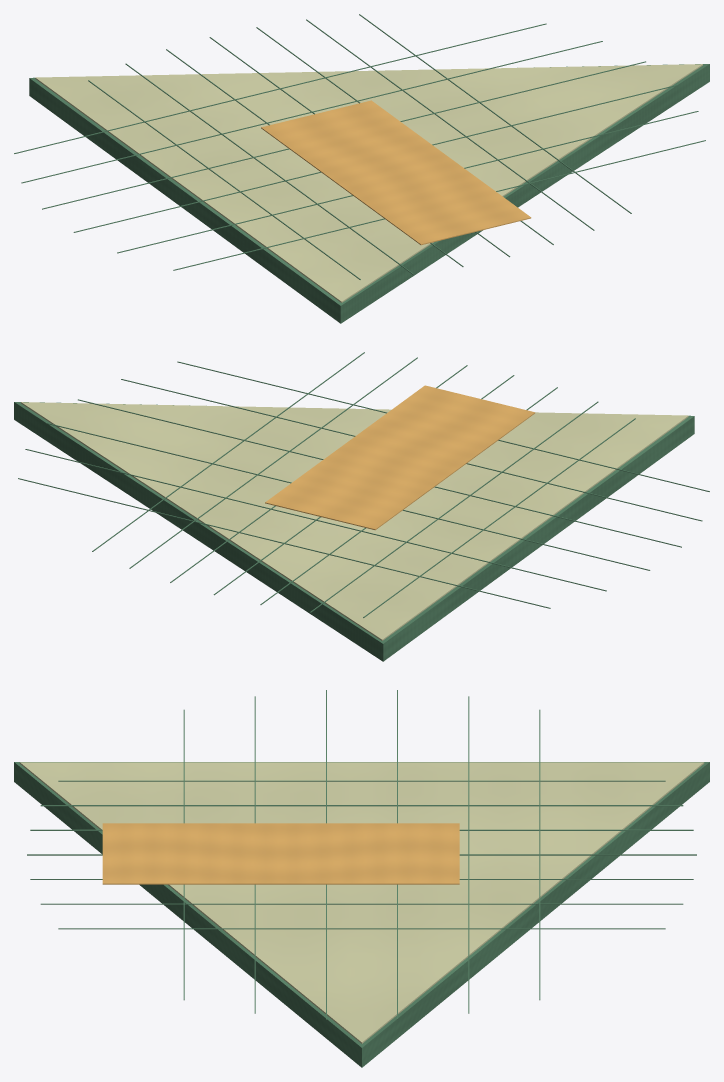
File: atlas100-s005-a07.lod2.glb
The picture shows the model from 3 angles, top to bottom: view 1: azimuth 30°, elevation 25°; view 2: azimuth 150°, elevation 25°; view 3: azimuth 270°, elevation 25°; orthographic projection. The views are drawn at different scales.
Visible parts, largest first — view 1: atlas100-s005-a07:part-001, atlas100-s005-a07:part-021, atlas100-s005-a07:part-000, atlas100-s005-a07:part-015, atlas100-s005-a07:part-014, atlas100-s005-a07:part-016, atlas100-s005-a07:part-017, atlas100-s005-a07:part-018, atlas100-s005-a07:part-019, atlas100-s005-a07:part-005, atlas100-s005-a07:part-009, atlas100-s005-a07:part-004 (+1 smaller); view 2: atlas100-s005-a07:part-001, atlas100-s005-a07:part-021, atlas100-s005-a07:part-000, atlas100-s005-a07:part-015, atlas100-s005-a07:part-014, atlas100-s005-a07:part-017, atlas100-s005-a07:part-016, atlas100-s005-a07:part-018, atlas100-s005-a07:part-019, atlas100-s005-a07:part-005, atlas100-s005-a07:part-009, atlas100-s005-a07:part-004 (+1 smaller); view 3: atlas100-s005-a07:part-001, atlas100-s005-a07:part-021, atlas100-s005-a07:part-000, atlas100-s005-a07:part-009, atlas100-s005-a07:part-005, atlas100-s005-a07:part-004, atlas100-s005-a07:part-010, atlas100-s005-a07:part-015, atlas100-s005-a07:part-007, atlas100-s005-a07:part-006.
Part boxes in pixels (bbox=[...]): atlas100-s005-a07:part-001: bbox=[35, 64, 702, 302]; atlas100-s005-a07:part-021: bbox=[261, 100, 531, 245]; atlas100-s005-a07:part-000: bbox=[29, 64, 709, 323]; atlas100-s005-a07:part-015: bbox=[21, 41, 602, 183]; atlas100-s005-a07:part-014: bbox=[14, 23, 546, 153]; atlas100-s005-a07:part-016: bbox=[42, 61, 645, 209]; atlas100-s005-a07:part-017: bbox=[73, 84, 677, 232]; atlas100-s005-a07:part-018: bbox=[117, 111, 698, 253]; atlas100-s005-a07:part-019: bbox=[173, 140, 705, 270]; atlas100-s005-a07:part-005: bbox=[125, 63, 413, 274]; atlas100-s005-a07:part-009: bbox=[306, 19, 594, 230]; atlas100-s005-a07:part-004: bbox=[88, 80, 360, 279]; atlas100-s005-a07:part-001: bbox=[21, 402, 688, 640]; atlas100-s005-a07:part-021: bbox=[265, 385, 535, 530]; atlas100-s005-a07:part-000: bbox=[14, 402, 694, 661]; atlas100-s005-a07:part-015: bbox=[25, 449, 606, 591]; atlas100-s005-a07:part-014: bbox=[18, 478, 550, 608]; atlas100-s005-a07:part-017: bbox=[78, 399, 681, 547]; atlas100-s005-a07:part-016: bbox=[46, 422, 650, 570]; atlas100-s005-a07:part-018: bbox=[121, 379, 702, 521]; atlas100-s005-a07:part-019: bbox=[177, 361, 709, 491]; atlas100-s005-a07:part-005: bbox=[310, 401, 598, 612]; atlas100-s005-a07:part-009: bbox=[129, 357, 417, 568]; atlas100-s005-a07:part-004: bbox=[363, 418, 635, 617]; atlas100-s005-a07:part-001: bbox=[19, 762, 704, 1043]; atlas100-s005-a07:part-021: bbox=[102, 823, 459, 884]; atlas100-s005-a07:part-000: bbox=[14, 762, 709, 1067]; atlas100-s005-a07:part-009: bbox=[40, 903, 683, 904]; atlas100-s005-a07:part-005: bbox=[40, 805, 683, 806]; atlas100-s005-a07:part-004: bbox=[58, 780, 665, 781]; atlas100-s005-a07:part-010: bbox=[58, 928, 665, 929]; atlas100-s005-a07:part-015: bbox=[468, 696, 469, 1013]; atlas100-s005-a07:part-007: bbox=[27, 854, 696, 855]; atlas100-s005-a07:part-006: bbox=[30, 829, 693, 830].
Bounding box in the file's own units: 12.99 × 0.404 × 10.76.
3 materials, 3 textured.
